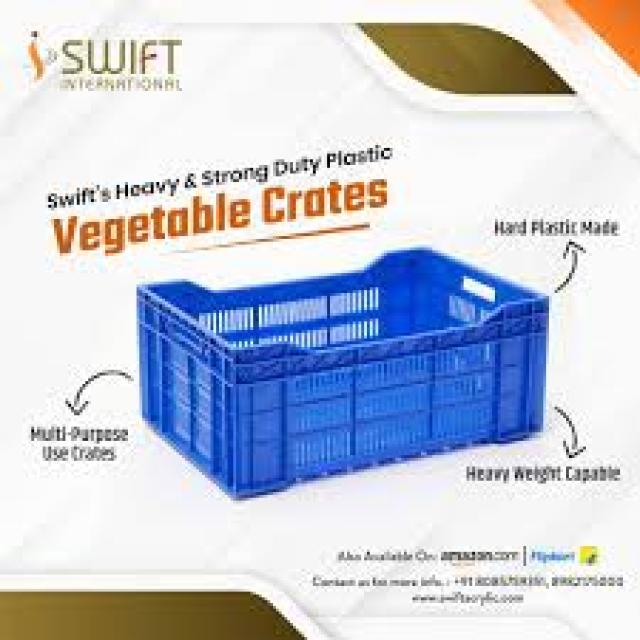basket: (116, 200, 577, 517)
